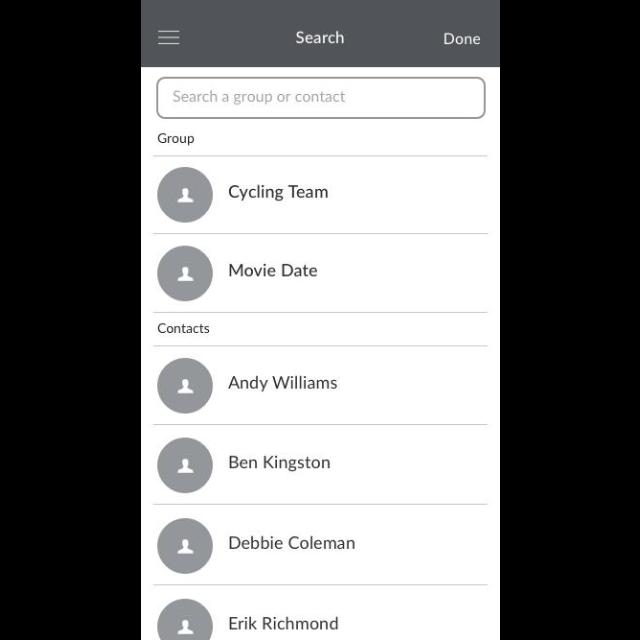icon: (157, 166, 213, 224), (157, 244, 213, 302), (156, 518, 214, 574), (158, 358, 212, 414), (158, 438, 212, 494), (157, 598, 213, 640), (157, 30, 180, 46)
input: (156, 78, 486, 120)
text: (173, 92, 345, 106), (229, 535, 355, 551), (229, 454, 331, 472), (229, 184, 329, 202), (227, 376, 337, 392), (228, 616, 338, 630), (228, 264, 318, 278), (295, 31, 345, 45), (158, 322, 210, 333), (444, 32, 481, 46), (158, 134, 194, 146)
